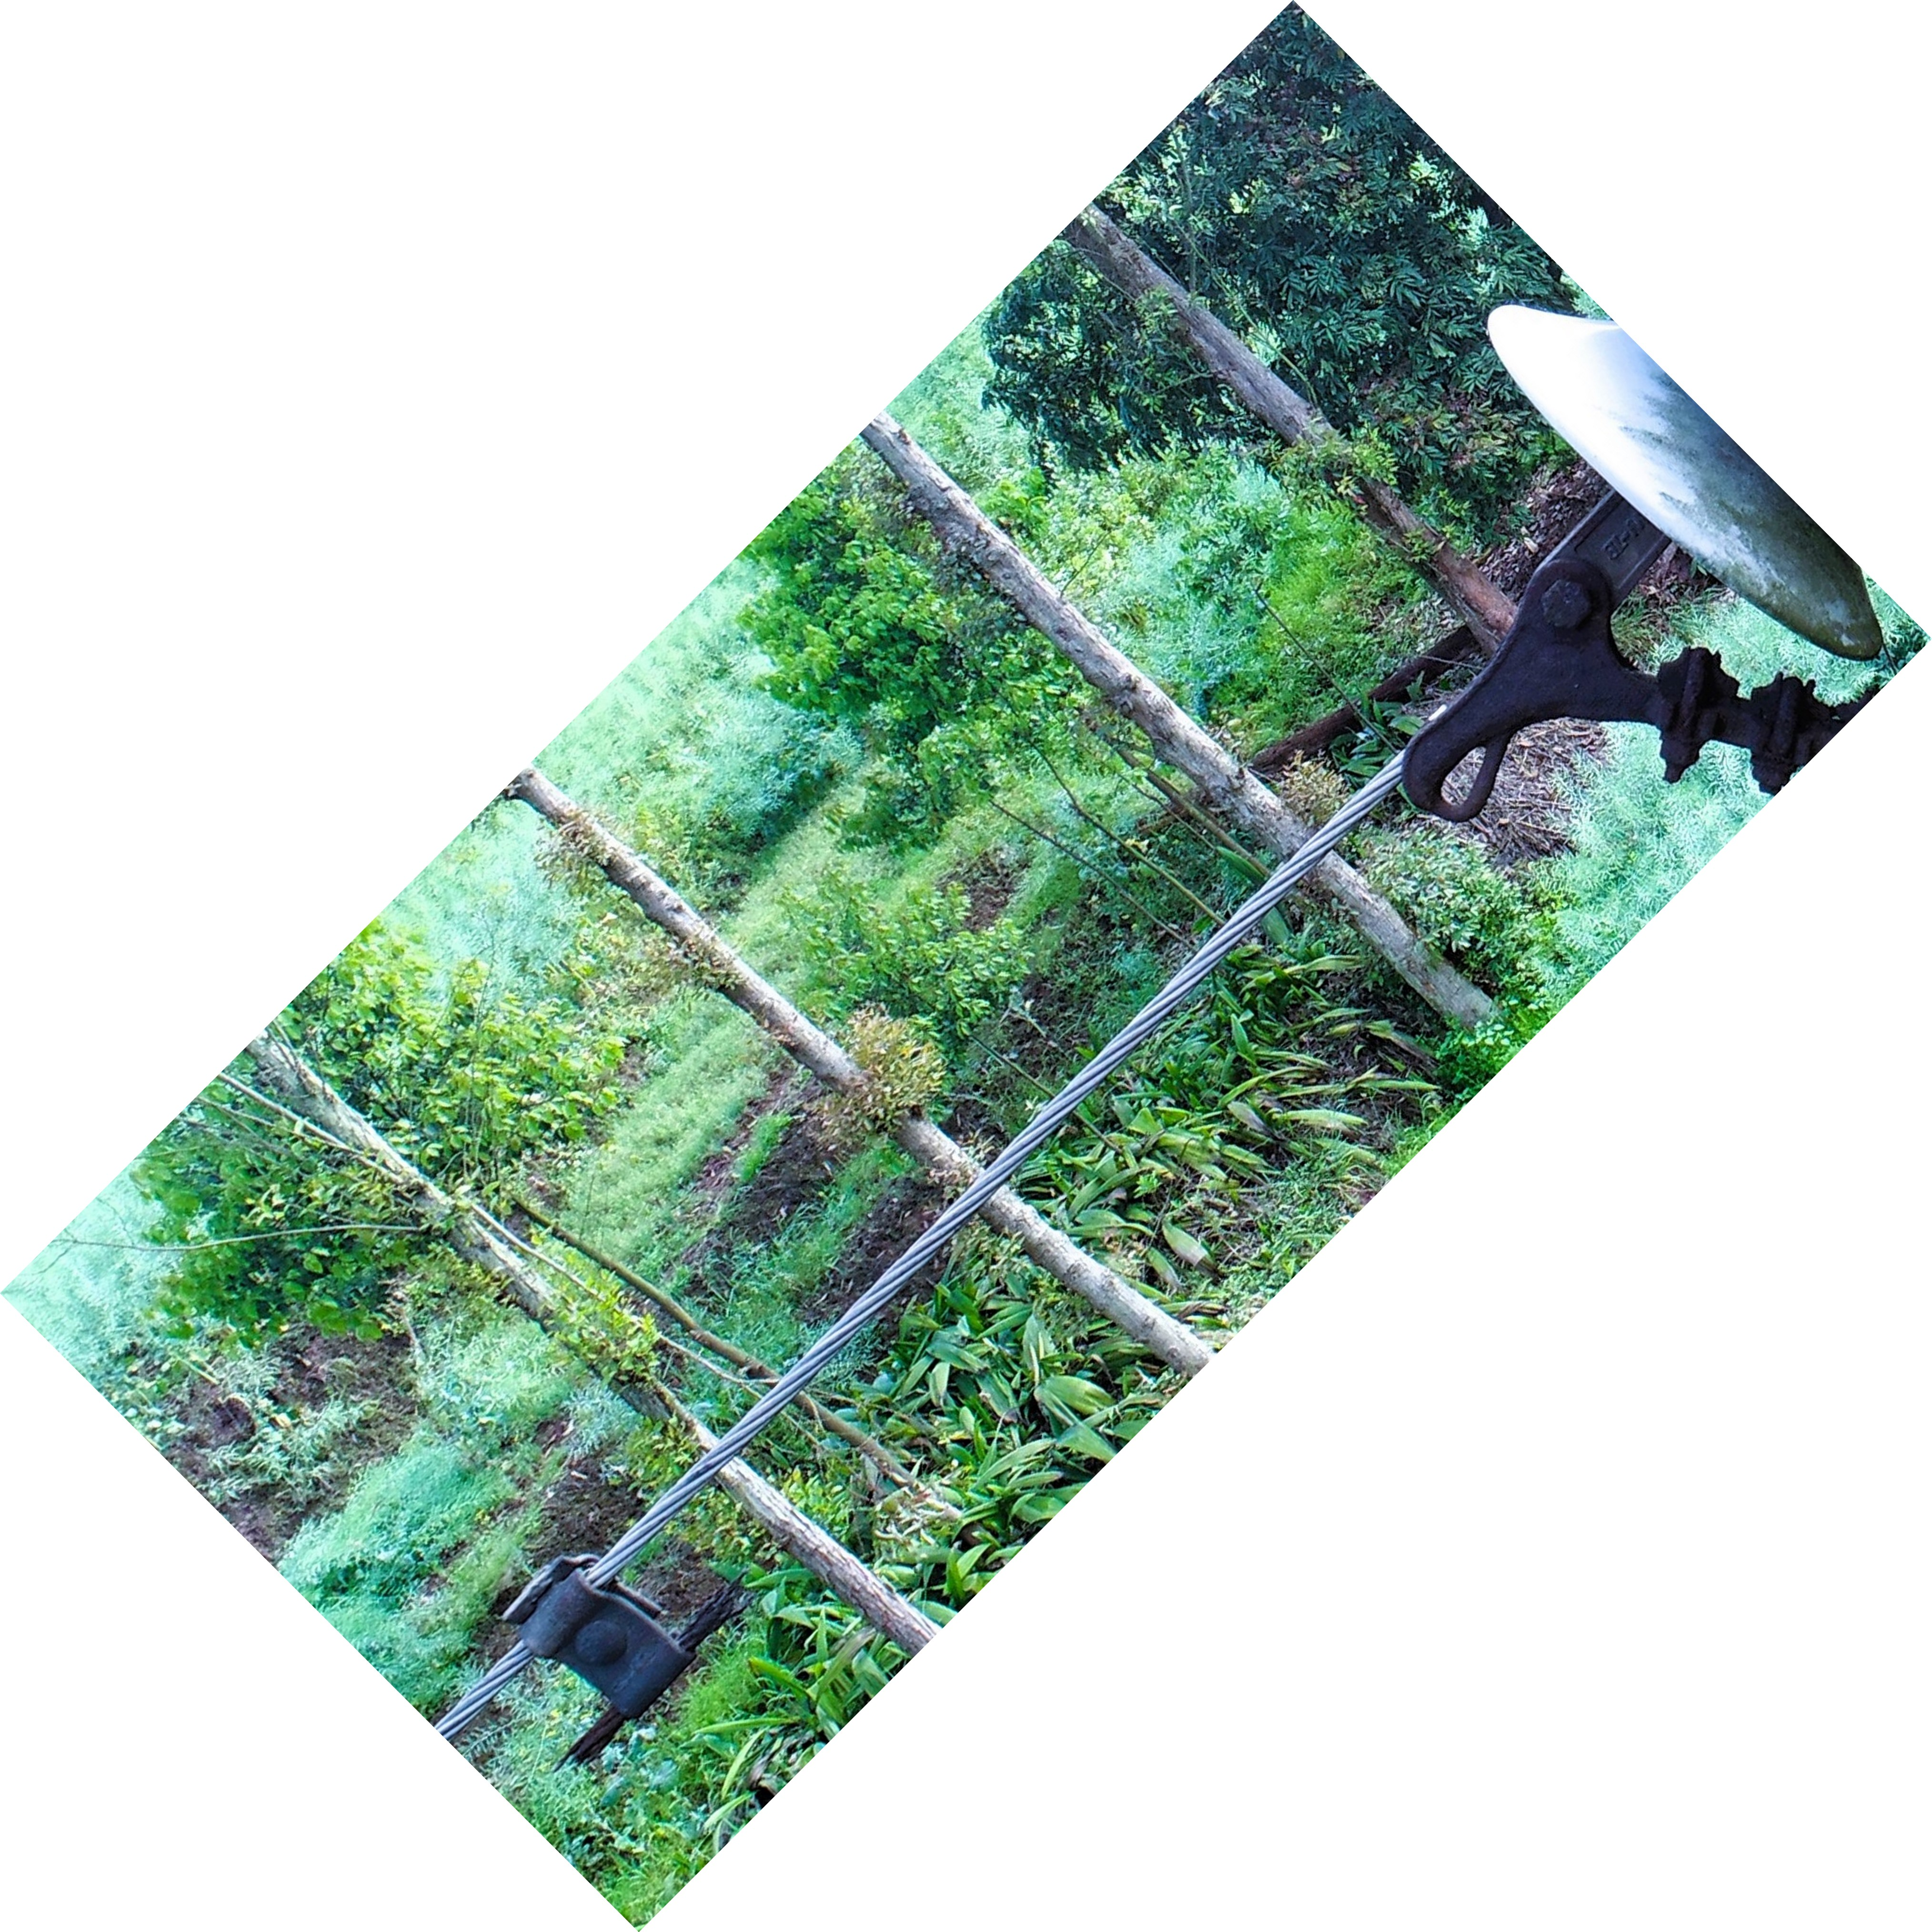Damage of shockproof hammer: (467, 1502, 778, 1813)
